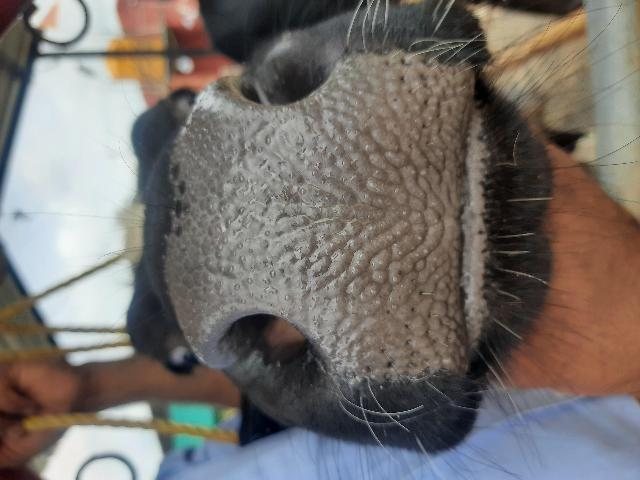Muzzle: (183, 110, 463, 334)
